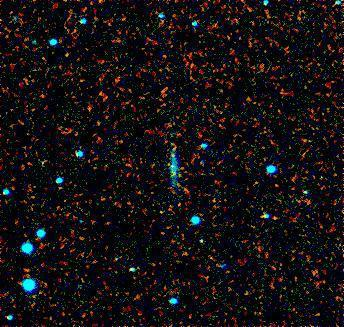star: (261, 203, 291, 233)
